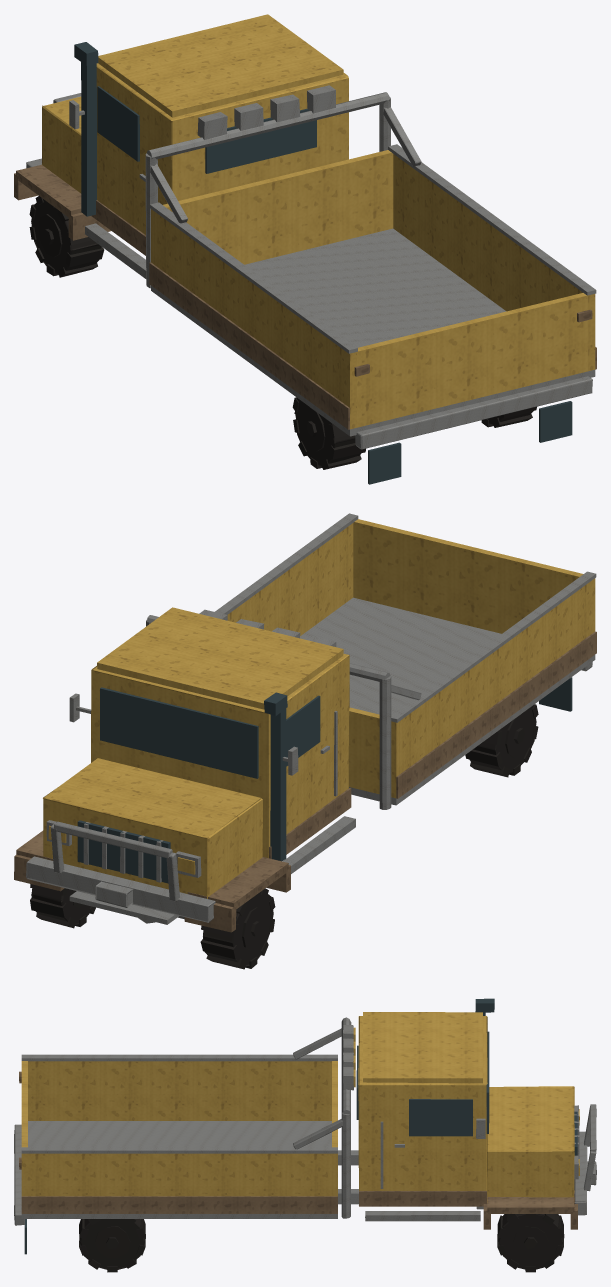
File: sandrunner.glb
The picture shows the model from 3 angles, top to bottom: view 1: azimuth 30°, elevation 25°; view 2: azimuth 150°, elevation 25°; view 3: azimuth 270°, elevation 25°; orthographic projection. The views are drawn at different scales.
Visible parts, largest first — view 1: Sandrunner, Tailgate, Wheel_L1, Wheel_L2; view 2: Sandrunner, Tailgate, Wheel_L1, Wheel_L2, Wheel_R1; view 3: Sandrunner, Wheel_R1, Wheel_R2, Tailgate.
Boxes of the visible parts, box(x1,y1,x2,y2) form: Sandrunner: box(14, 14, 596, 484); Tailgate: box(357, 293, 588, 427); Wheel_L1: box(29, 196, 104, 277); Wheel_L2: box(292, 397, 365, 469); Sandrunner: box(14, 513, 596, 932); Tailgate: box(353, 519, 583, 633); Wheel_L1: box(200, 888, 275, 969); Wheel_L2: box(465, 704, 538, 777); Wheel_R1: box(30, 884, 95, 928); Sandrunner: box(14, 998, 596, 1254); Wheel_R1: box(497, 1214, 564, 1272); Wheel_R2: box(79, 1219, 145, 1272); Tailgate: box(21, 1061, 27, 1147).
Bounding box in the file's own units: 3.07 × 2.9 × 7.84.
5 materials, 3 textured.
